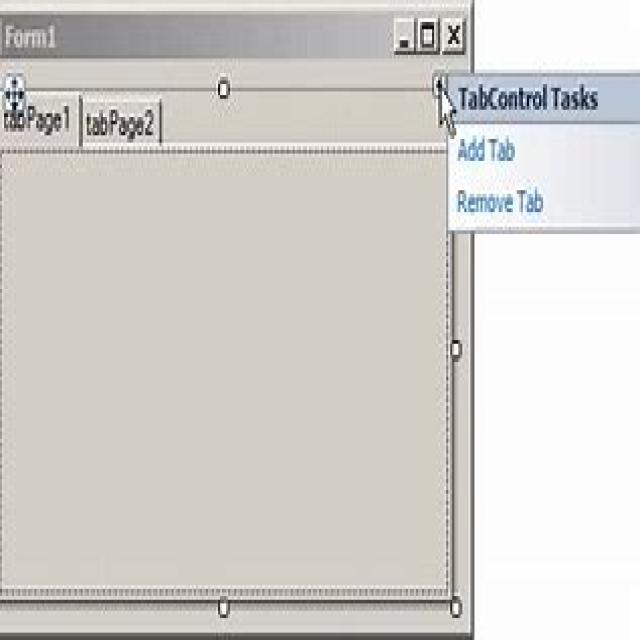button: (438, 14, 466, 56), (392, 12, 417, 52), (416, 15, 440, 56)
dropdownMenu: (434, 68, 638, 230)
label: (0, 14, 64, 59)
menuItem: (453, 181, 557, 220), (452, 130, 531, 174)
tabControl: (0, 80, 178, 161)
